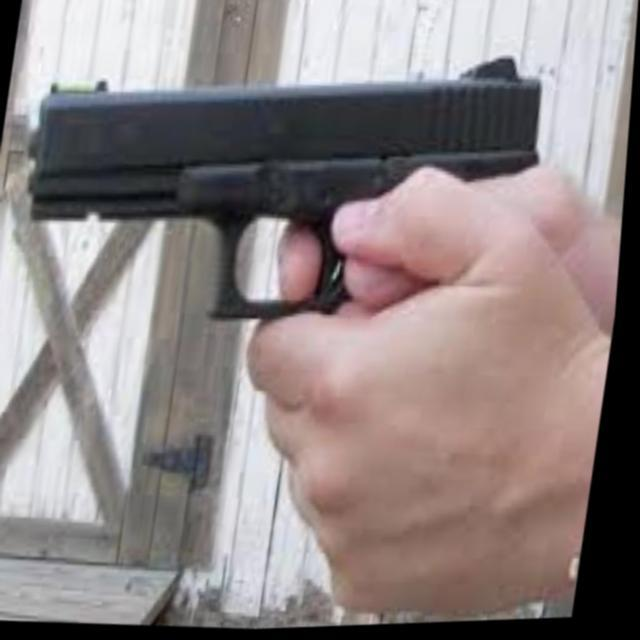weapon: (5, 22, 558, 350)
